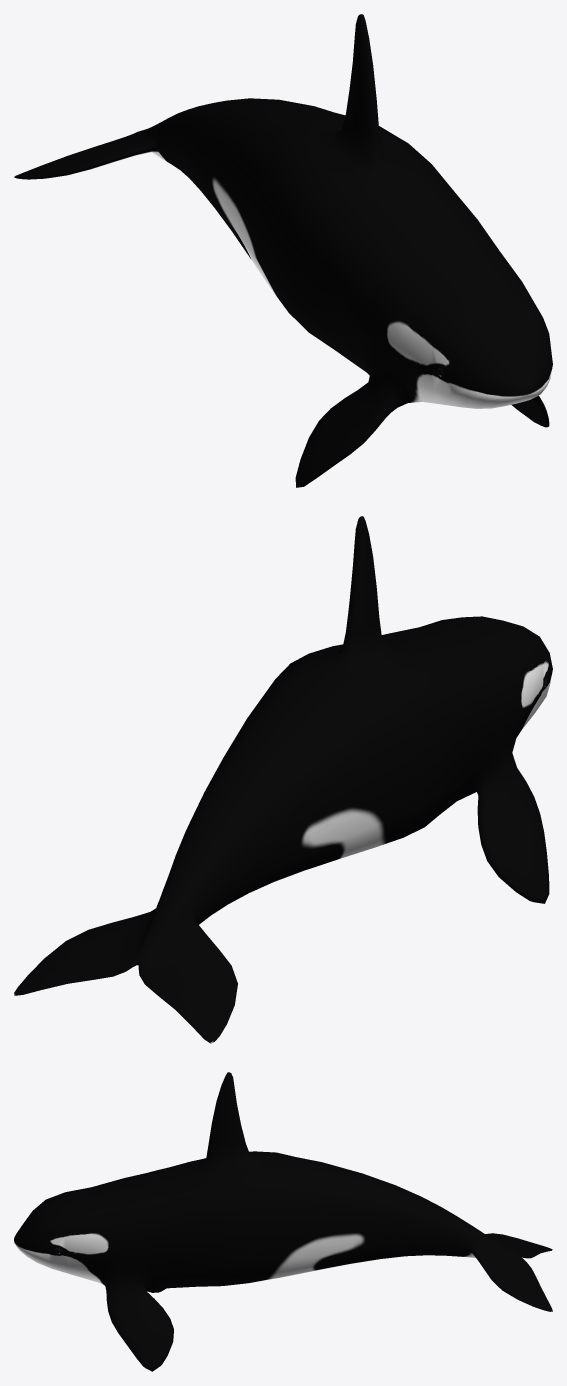
The model's file is Killer Whale.fbx.
The picture shows the model from 3 angles, top to bottom: view 1: azimuth 30°, elevation 25°; view 2: azimuth 150°, elevation 25°; view 3: azimuth 270°, elevation 25°; orthographic projection. The views are drawn at different scales.
Visible parts, largest first — view 1: Orca; view 2: Orca; view 3: Orca.
Boxes of the visible parts, <box> form: Orca: <box>14,14,552,487</box>; Orca: <box>14,516,552,1043</box>; Orca: <box>14,1072,552,1371</box>.
Bounding box in the file's own units: 288 × 443 × 831.
Materials: 1 (1 with a texture image).
